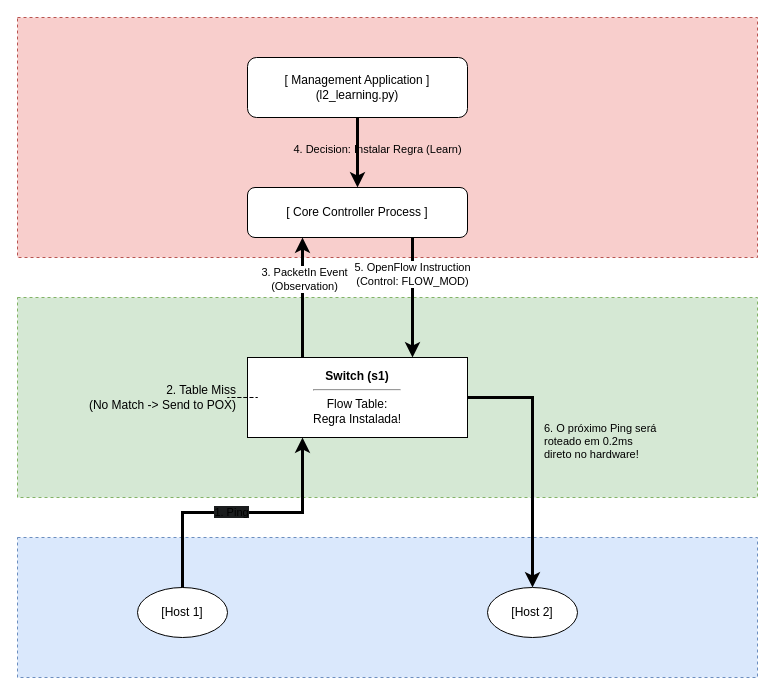
The diagram is 775 pixels wide and 695 high, and some of its shapes have lost their labels. Each missing label, with the box of its shape:
ZONE 1: END DEVICES (Hosts): (16, 536, 758, 678)
ZONE 2: THE NETWORK INFRASTRUCTURE (Data Plane): (16, 296, 758, 498)
ZONE 3: NOX/POX CONTROLLER (The "Network OS"): (16, 16, 758, 258)
